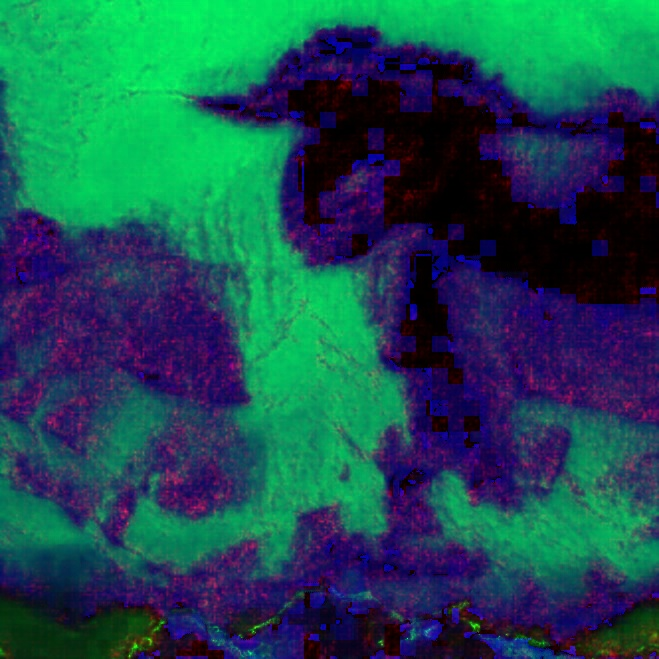rip_current: (125, 145, 465, 490)
